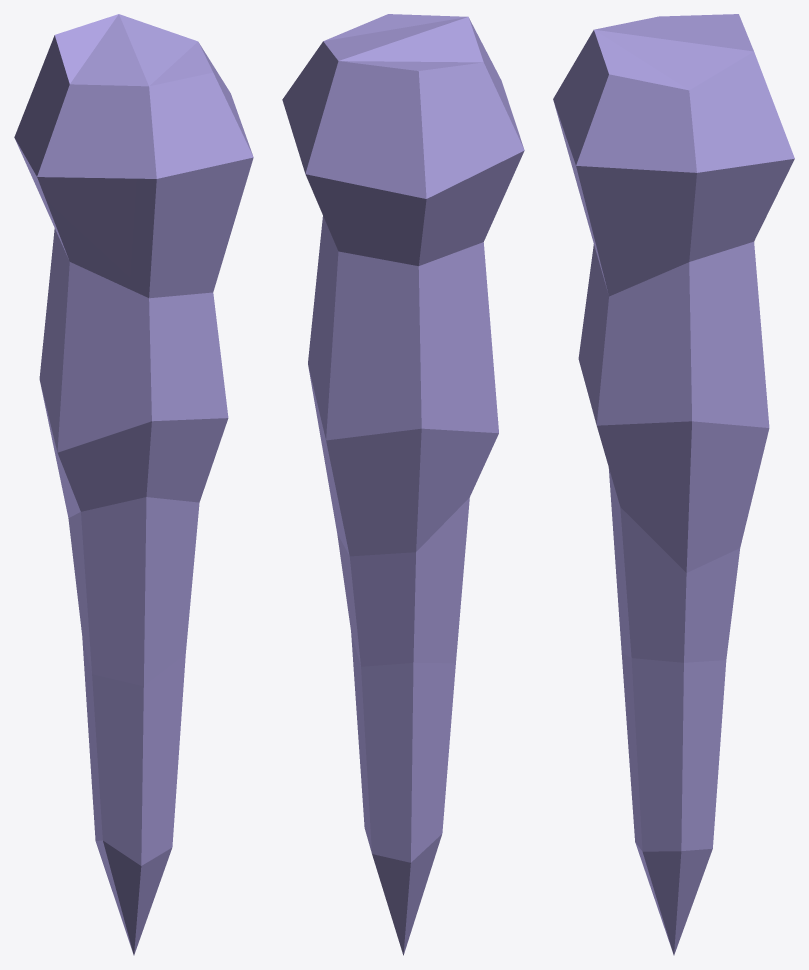
The model's file is Icicle.glb.
The picture shows the model from 3 angles, left to right: view 1: azimuth 30°, elevation 25°; view 2: azimuth 150°, elevation 25°; view 3: azimuth 270°, elevation 25°; orthographic projection.
Parts seen in each view (by area): view 1: icicle; view 2: icicle; view 3: icicle.
Boxes of the visible parts, x1,y1,x2,y2 form: icicle: [14, 14, 253, 955]; icicle: [282, 14, 524, 955]; icicle: [553, 14, 794, 955].
Size of the model in its own units: 0.3525 by 1.41 by 0.3373.
